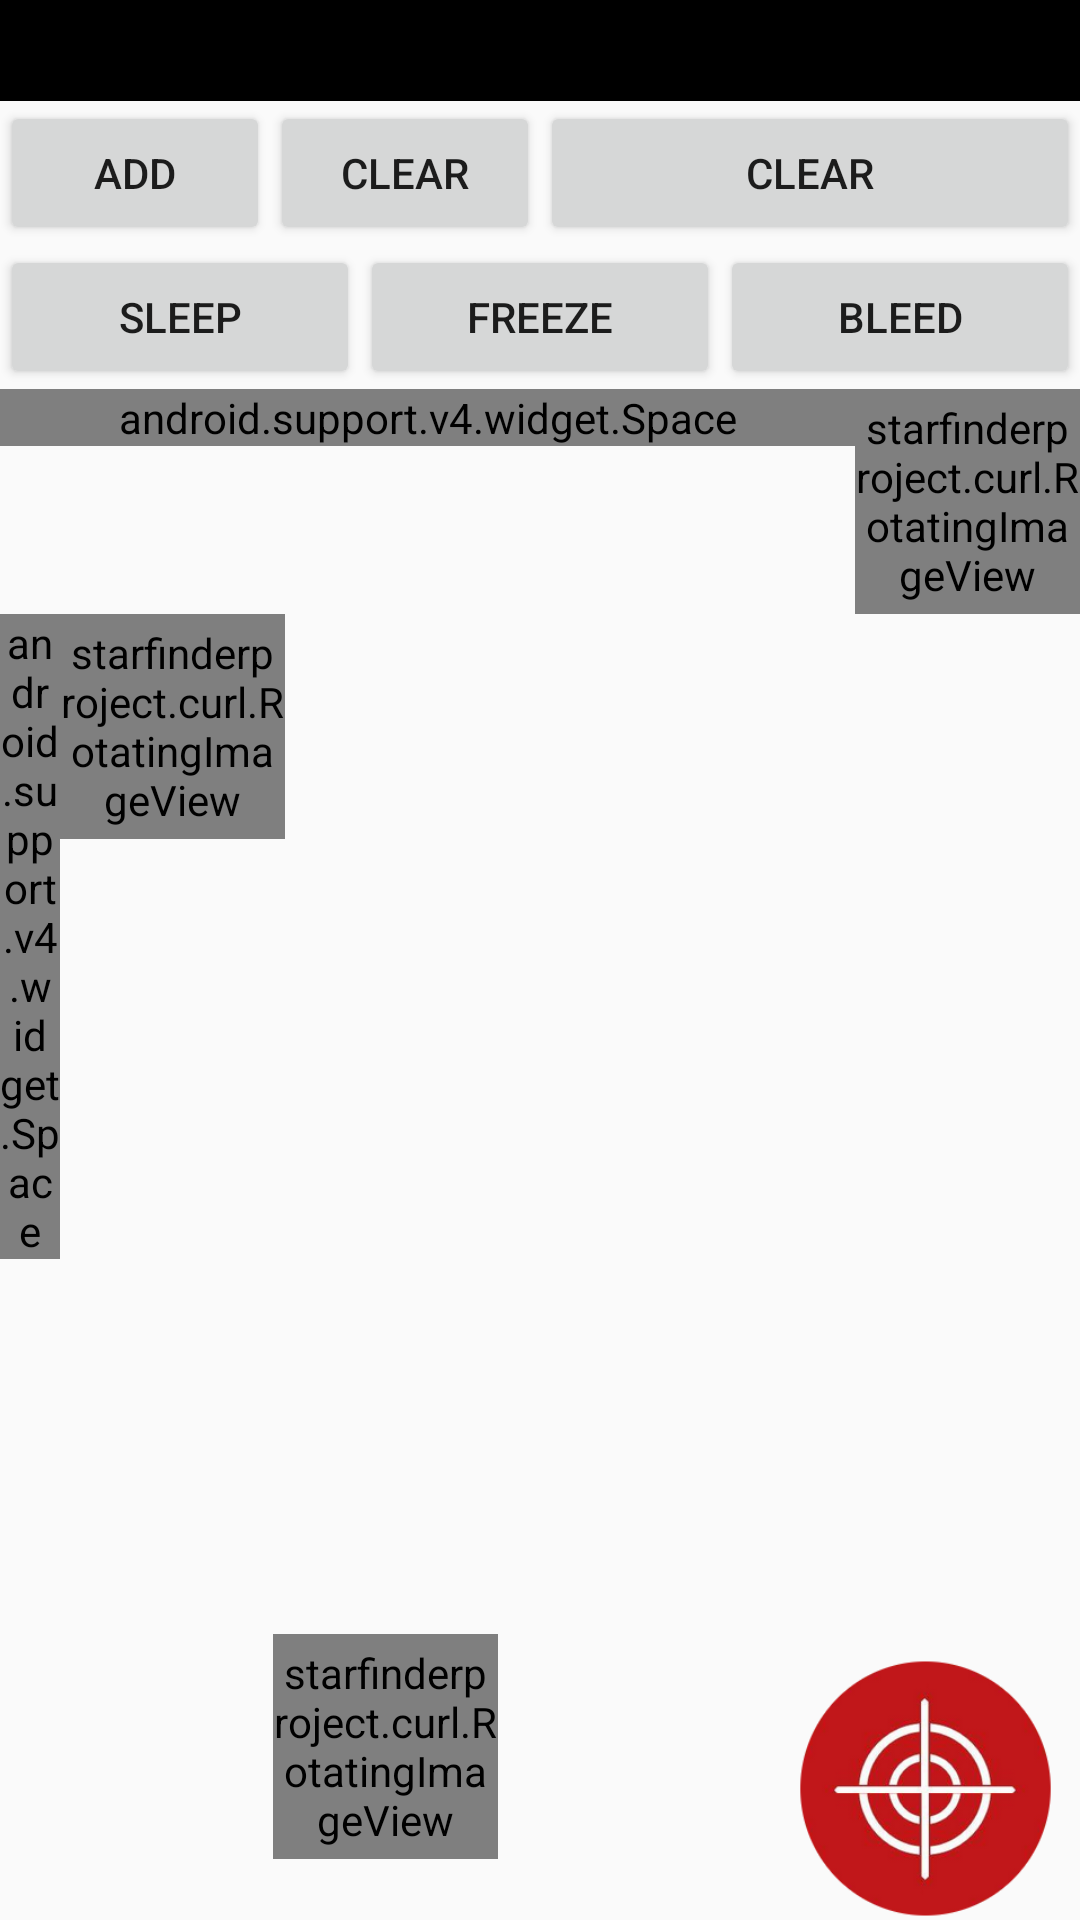

Screen size 1080x1920. Icon name, then its center in pixels as (x,y):
target crosshairs: (925,1788)
